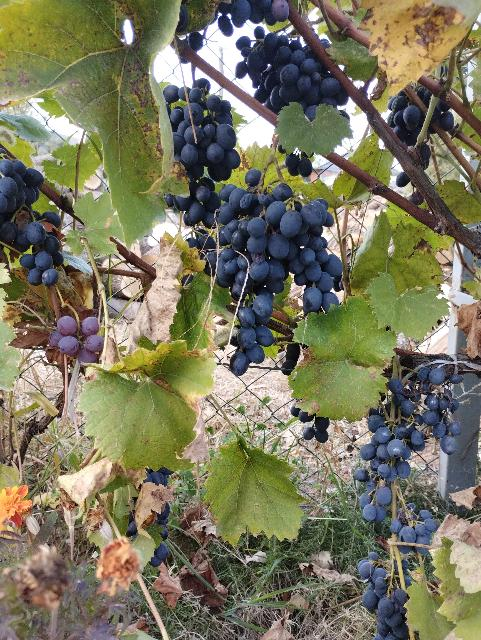grapes: (215, 169, 342, 376), (164, 79, 240, 228), (236, 26, 349, 122), (355, 414, 425, 522), (388, 366, 464, 455), (359, 552, 409, 640), (49, 316, 105, 364), (391, 502, 439, 554)
